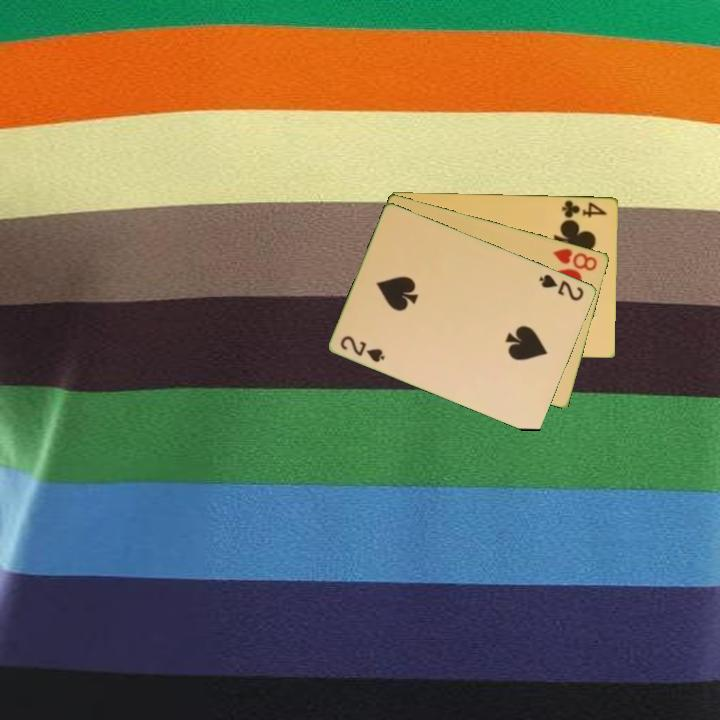2s: (536, 270, 587, 304), (337, 332, 388, 365)
4c: (559, 196, 610, 221)
8h: (550, 244, 600, 274)
